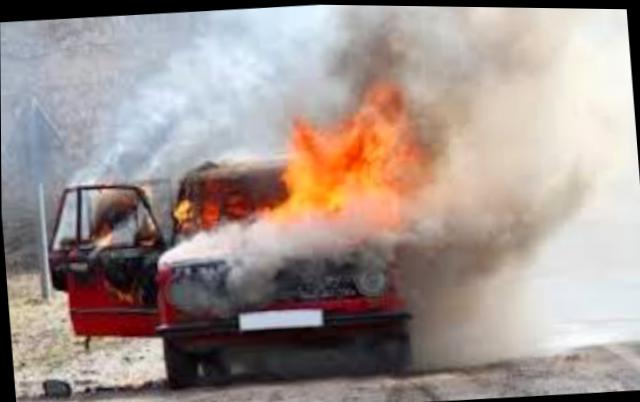fire: (272, 82, 444, 228), (158, 116, 319, 264), (54, 154, 179, 303)
